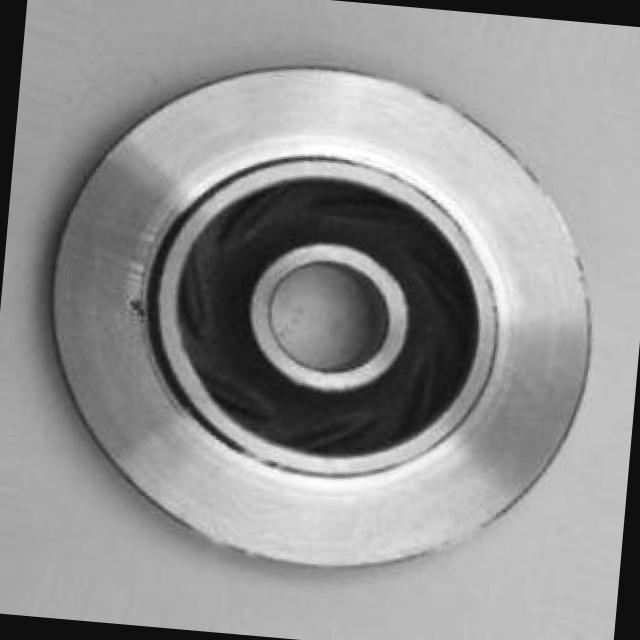Defect: (123, 292, 151, 323)
